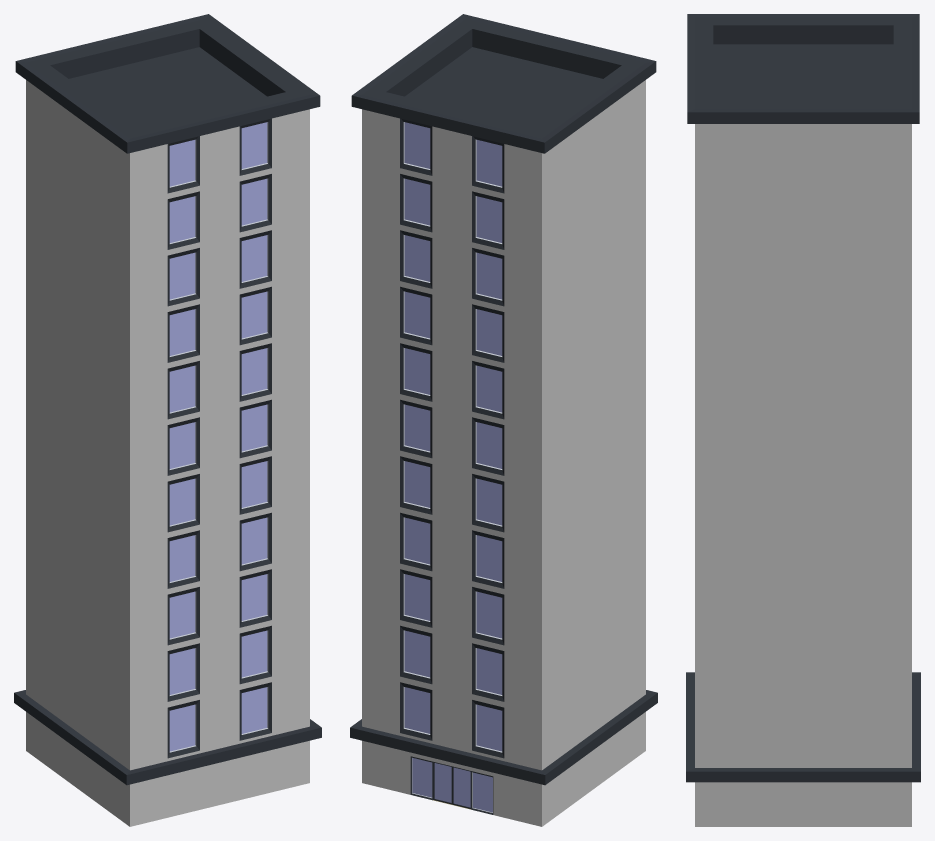
Rendered from building_2.glb.
The picture shows the model from 3 angles, left to right: view 1: azimuth 30°, elevation 25°; view 2: azimuth 150°, elevation 25°; view 3: azimuth 270°, elevation 25°; orthographic projection. The views are drawn at different scales.
Parts seen in each view (by area): view 1: Cube; view 2: Cube; view 3: Cube.
Boxes of the visible parts, x1,y1,x2,y2 form: Cube: (14,14,321,826); Cube: (350,14,657,826); Cube: (686,14,920,826).
Bounding box in the file's own units: 21.69 × 73.14 × 21.69.
Materials: 2 (1 with a texture image).
